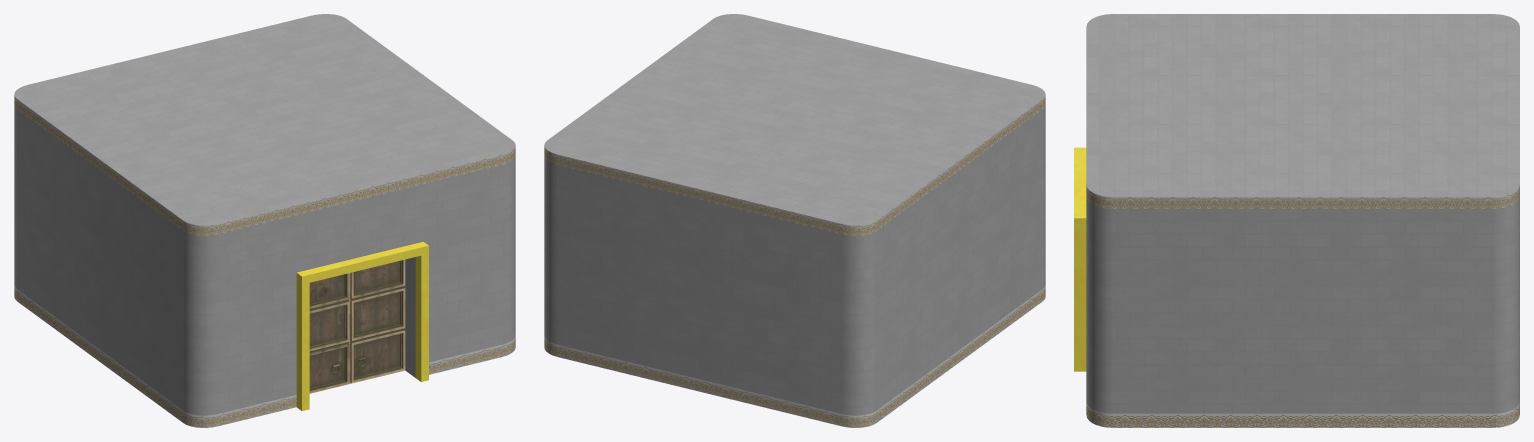
File: SM_door_module.glb
The picture shows the model from 3 angles, left to right: view 1: azimuth 30°, elevation 25°; view 2: azimuth 150°, elevation 25°; view 3: azimuth 270°, elevation 25°; orthographic projection. The views are drawn at different scales.
Visible parts, largest first — view 1: SM_door_module; view 2: SM_door_module; view 3: SM_door_module.
Boxes of the visible parts, x1,y1,x2,y2 form: SM_door_module: [14, 14, 515, 427]; SM_door_module: [544, 14, 1045, 427]; SM_door_module: [1074, 14, 1519, 427].
Bounding box in the file's own units: 14.94 × 8.78 × 15.37.
4 materials, 4 textured.
